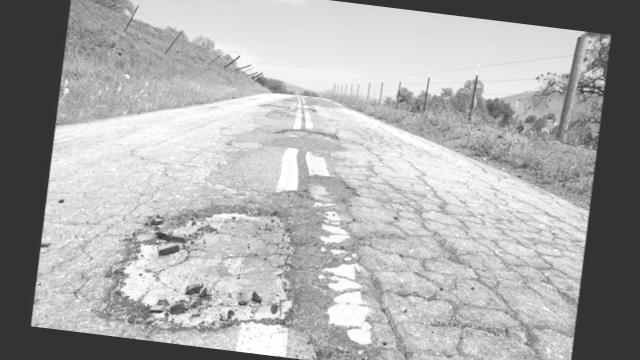Pothole: (78, 171, 316, 358), (277, 160, 363, 224), (265, 119, 354, 148), (260, 92, 317, 122)
